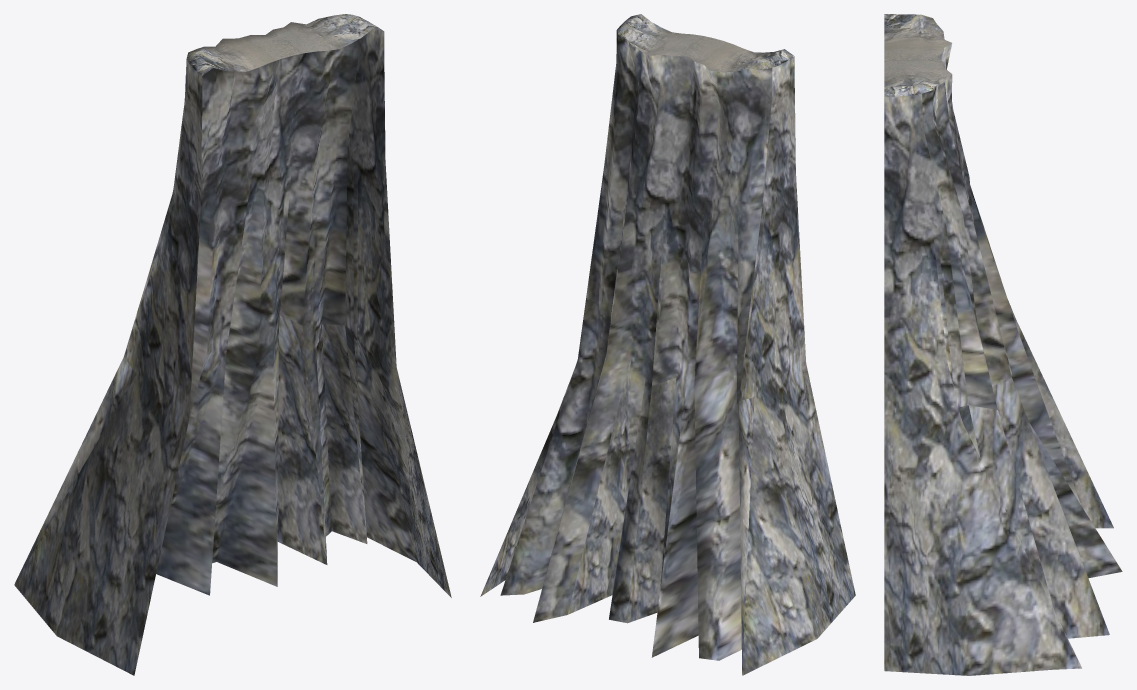
Rendered from PlatformTemple_Edge.FBX.
3 renders of one model, left to right at view 1: azimuth 30°, elevation 25°; view 2: azimuth 150°, elevation 25°; view 3: azimuth 270°, elevation 25°, orthographic. The views are drawn at different scales.
Visible parts, largest first — view 1: Box01; view 2: Box01; view 3: Box01.
Boxes of the visible parts, bbox=[...] form: Box01: bbox=[14, 14, 451, 675]; Box01: bbox=[480, 14, 855, 675]; Box01: bbox=[884, 14, 1122, 675].
Bounding box in the file's own units: 1137 × 1851 × 729.
2 materials, 2 textured.
